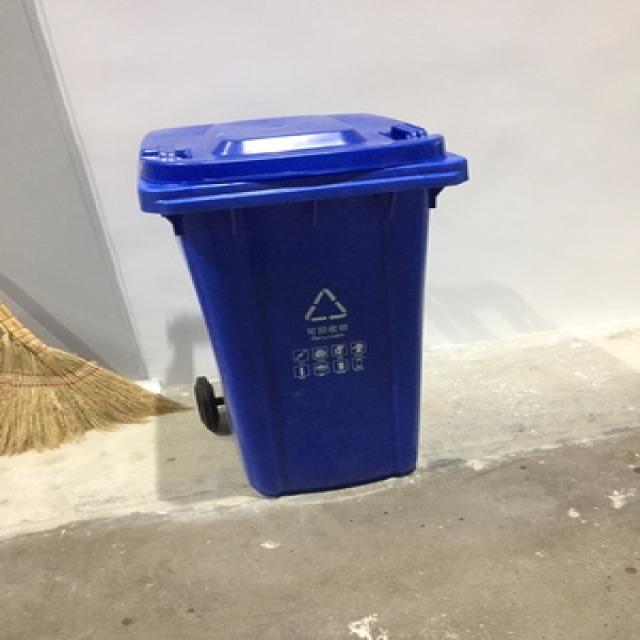ash bin: (135, 110, 468, 496)
